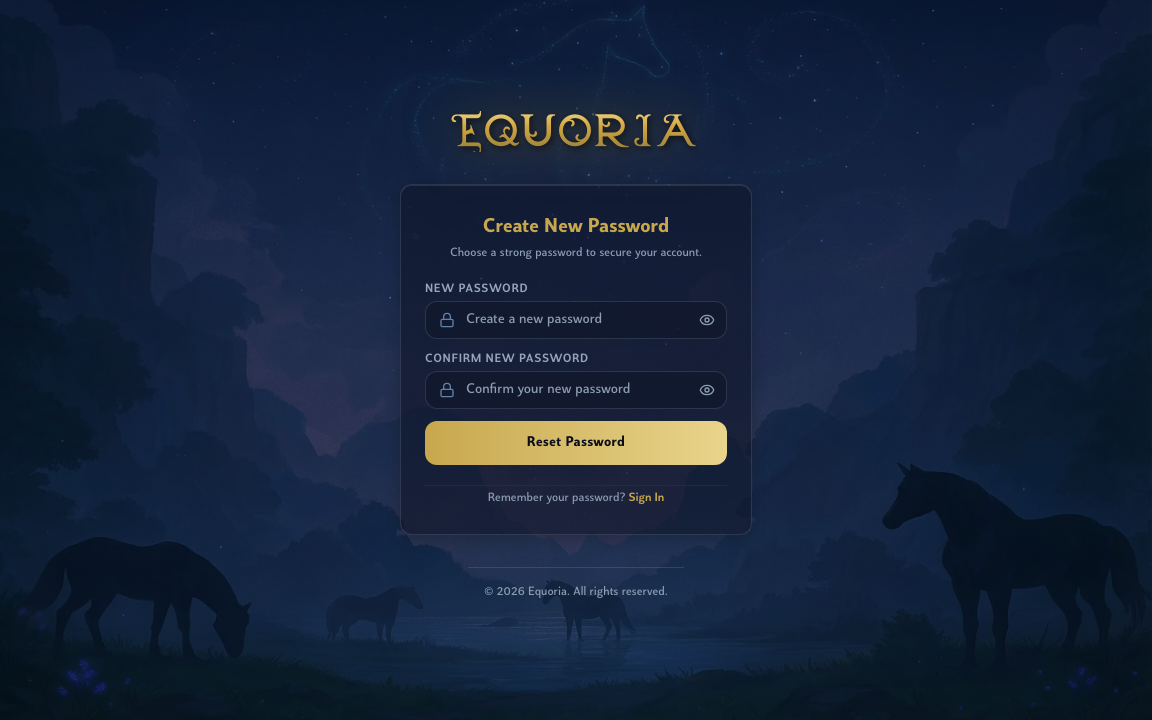
ResetPasswordPage › Password Strength Indicator › shows strong strength for complex password
The width and height of the screenshot is (1152, 720).
Type "StrongP@ss123" into the password field with placeholder "Create a new password" at point(576, 320), box [425, 301, 727, 339]
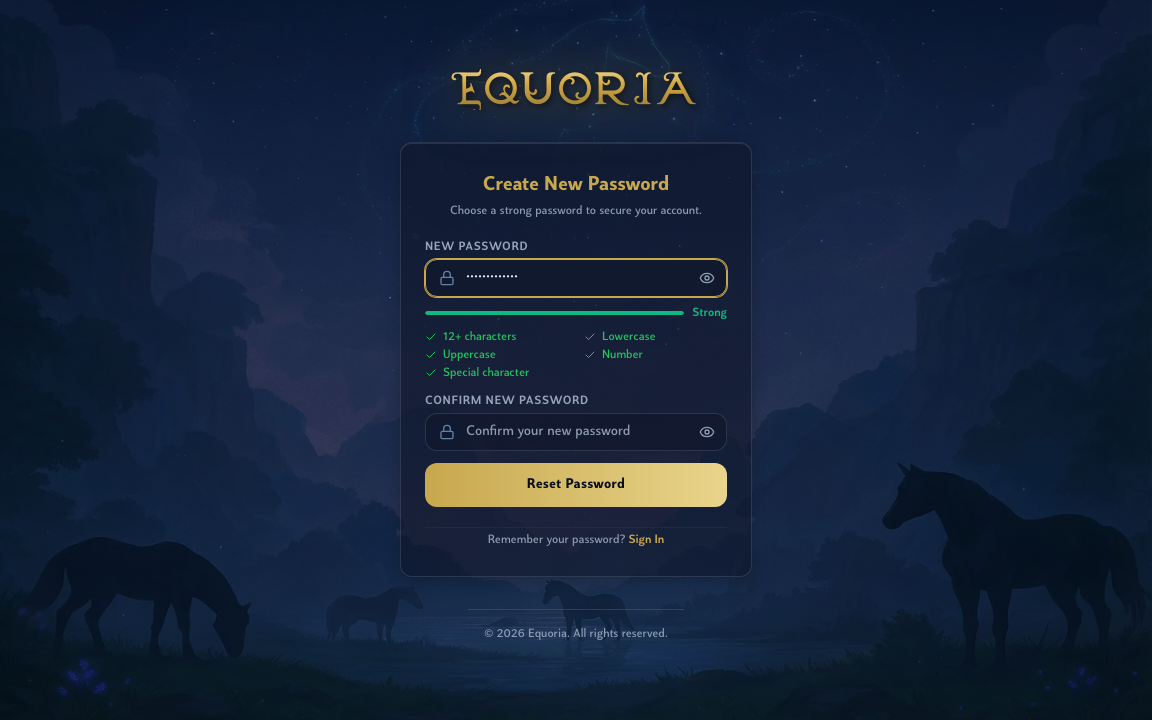
Expected: the text "strong" is shown, [692, 305, 727, 321]
